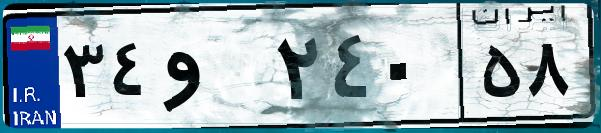0: (385, 28, 445, 110)
2: (270, 28, 330, 110)
3: (57, 26, 110, 100)
4: (330, 28, 385, 110), (110, 28, 158, 98)
5: (475, 38, 525, 113)
8: (525, 38, 570, 115)
و: (158, 20, 270, 120)
